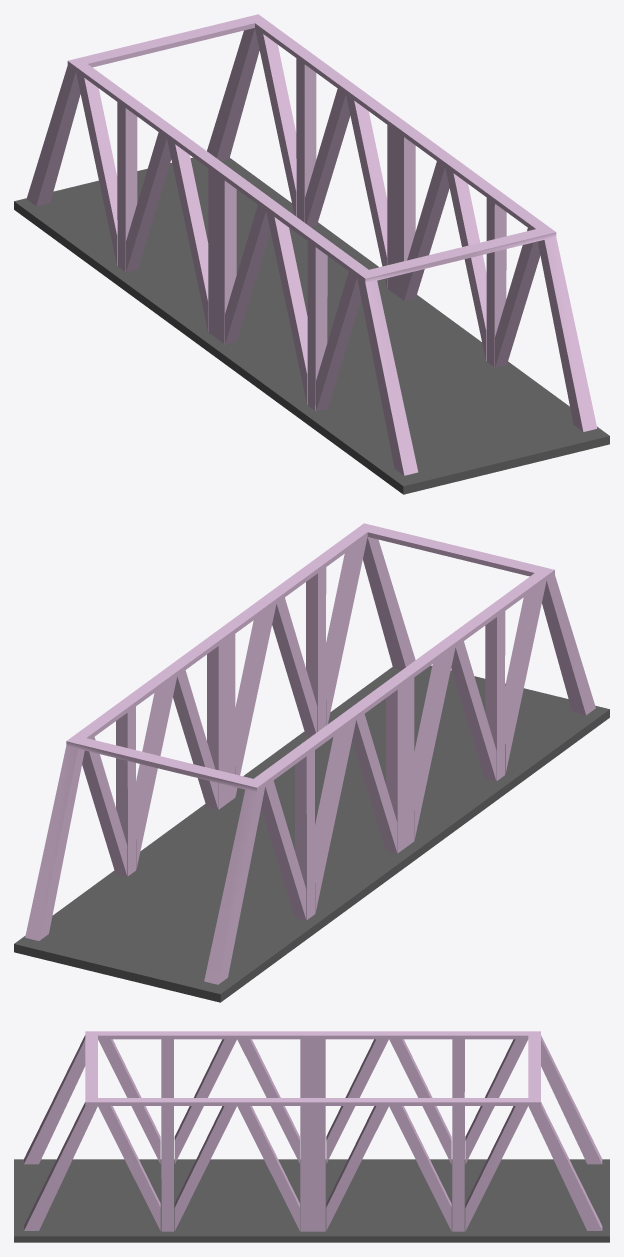
File: bridge.fbx
The picture shows the model from 3 angles, top to bottom: view 1: azimuth 30°, elevation 25°; view 2: azimuth 150°, elevation 25°; view 3: azimuth 270°, elevation 25°; orthographic projection. The views are drawn at different scales.
Visible parts, largest first — view 1: polySurface2; view 2: polySurface2; view 3: polySurface2.
Part boxes in pixels (x1,y1,x2,y2): polySurface2: (14, 14, 609, 494); polySurface2: (14, 523, 609, 1002); polySurface2: (14, 1031, 609, 1242).
Size of the model in its own units: 7.33 by 6.1 by 23.95.
